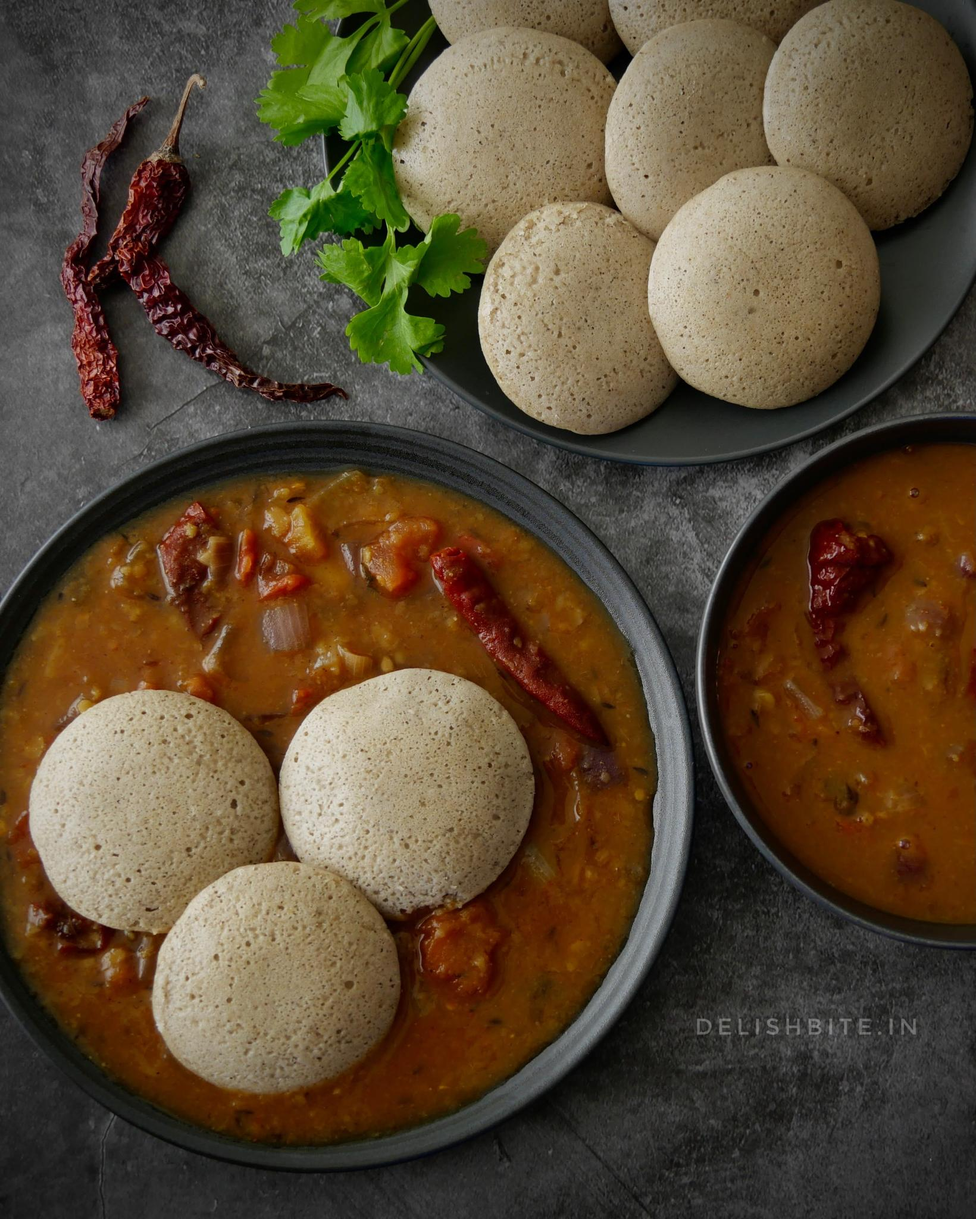idli: (305, 660, 553, 923), (138, 853, 406, 1094), (666, 158, 909, 406), (22, 678, 259, 928), (483, 179, 682, 474), (410, 29, 613, 230), (785, 0, 964, 193), (629, 19, 773, 239)
sambhar: (758, 430, 976, 960), (50, 483, 594, 646)
